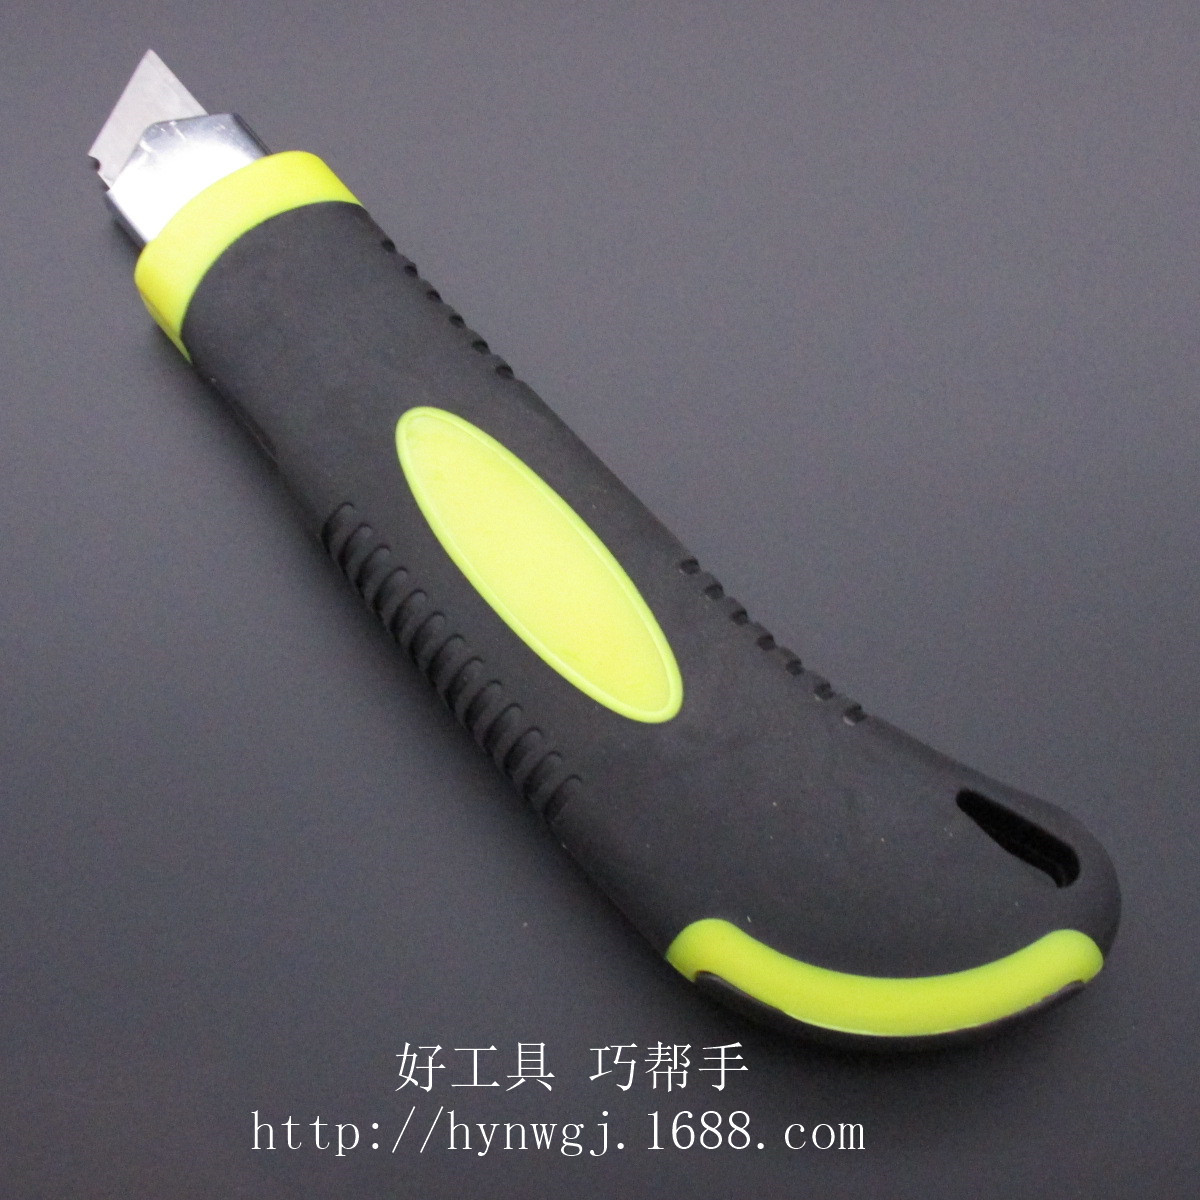cutter: (80, 40, 1125, 1044)
